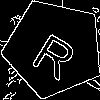R: (29, 24, 85, 82)
